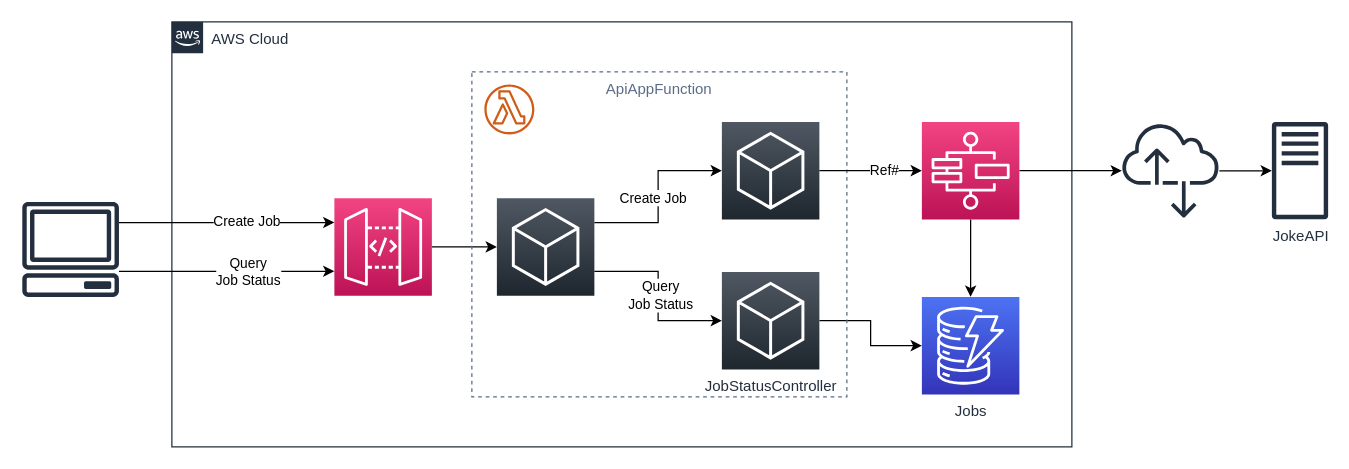
This 1349x469 diagram has some shape labels left out. Here are the shapes that lost their labels. From the top down, the box of each, then its label:
(721, 121, 819, 219): CreateJobController
(921, 121, 1019, 219): RetrieveJokeStateMachine
(496, 197, 594, 296): MicronautHandler
